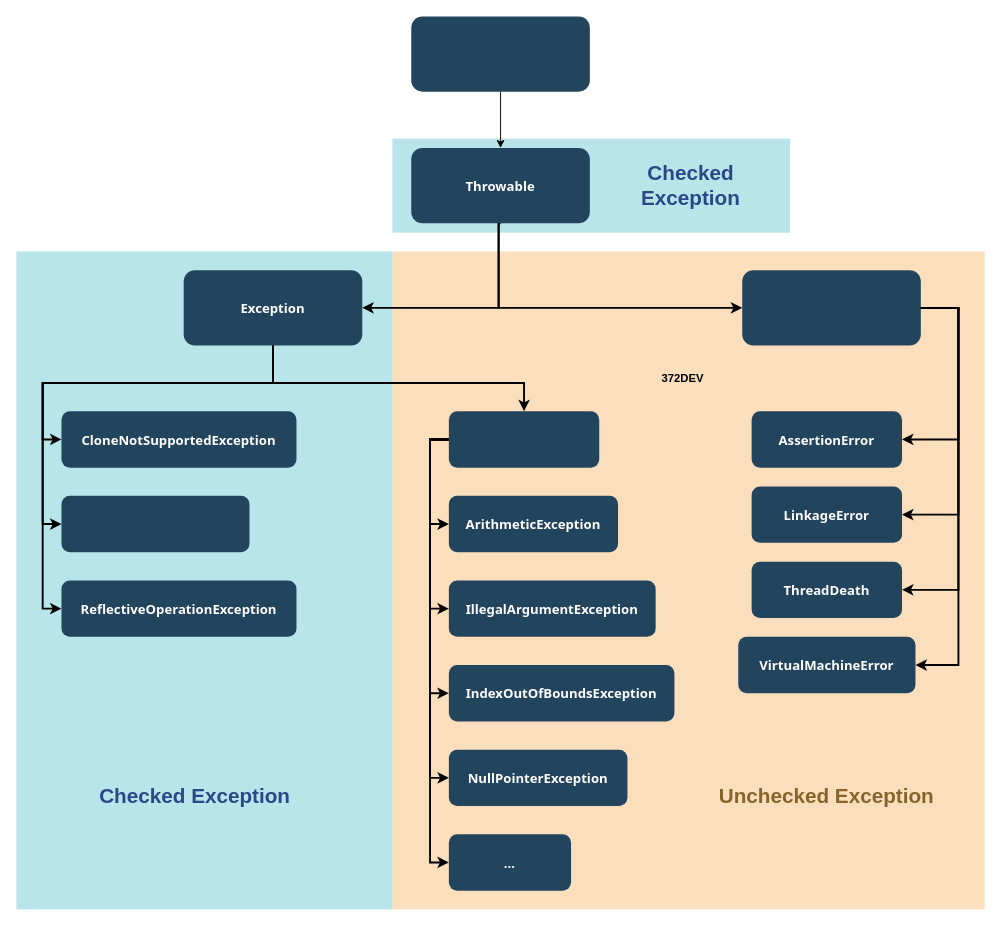
This 1000x925 diagram has some shape labels left out. Here are the shapes that lost their labels. From the top down, the centre of each, then its label:
At point (500, 53): "Object (Java.lang)".
At point (831, 307): "Error".
At point (523, 439): "RuntimeException".
At point (155, 523): "InterruptedException".
